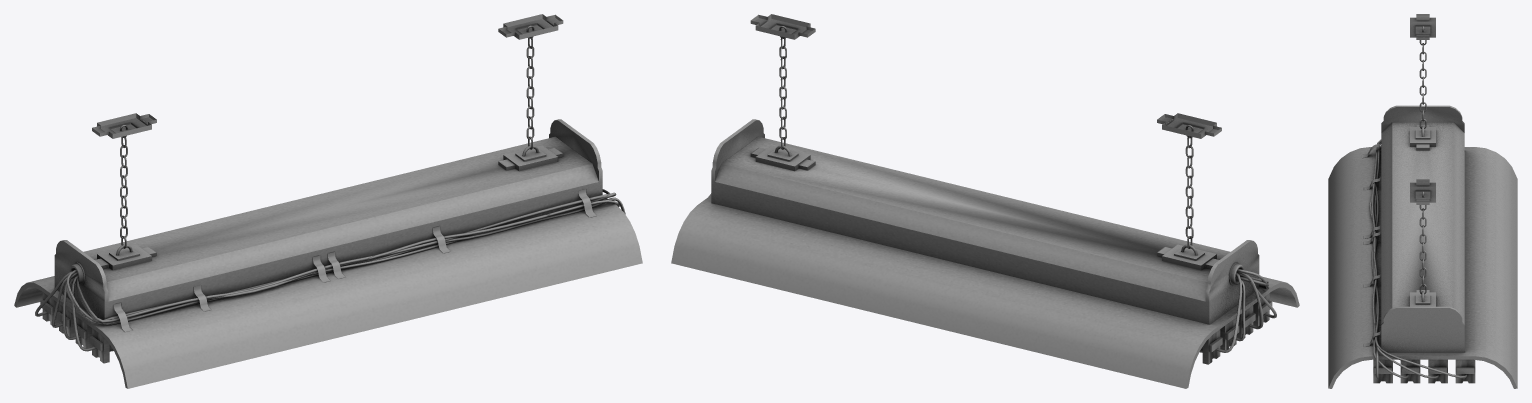
Rendered from HangingLight.obj.
The picture shows the model from 3 angles, left to right: view 1: azimuth 30°, elevation 25°; view 2: azimuth 150°, elevation 25°; view 3: azimuth 270°, elevation 25°; orthographic projection. The views are drawn at different scales.
Visible parts, largest first — view 1: Plane.196_Plane.283; view 2: Plane.196_Plane.283; view 3: Plane.196_Plane.283.
Part boxes in pixels (left/top/right/bottom): Plane.196_Plane.283: left=14, top=14, right=642, bottom=388; Plane.196_Plane.283: left=671, top=14, right=1299, bottom=388; Plane.196_Plane.283: left=1328, top=14, right=1517, bottom=388.
Bounding box in the file's own units: 0.1183 × 0.0441 × 0.0431.
